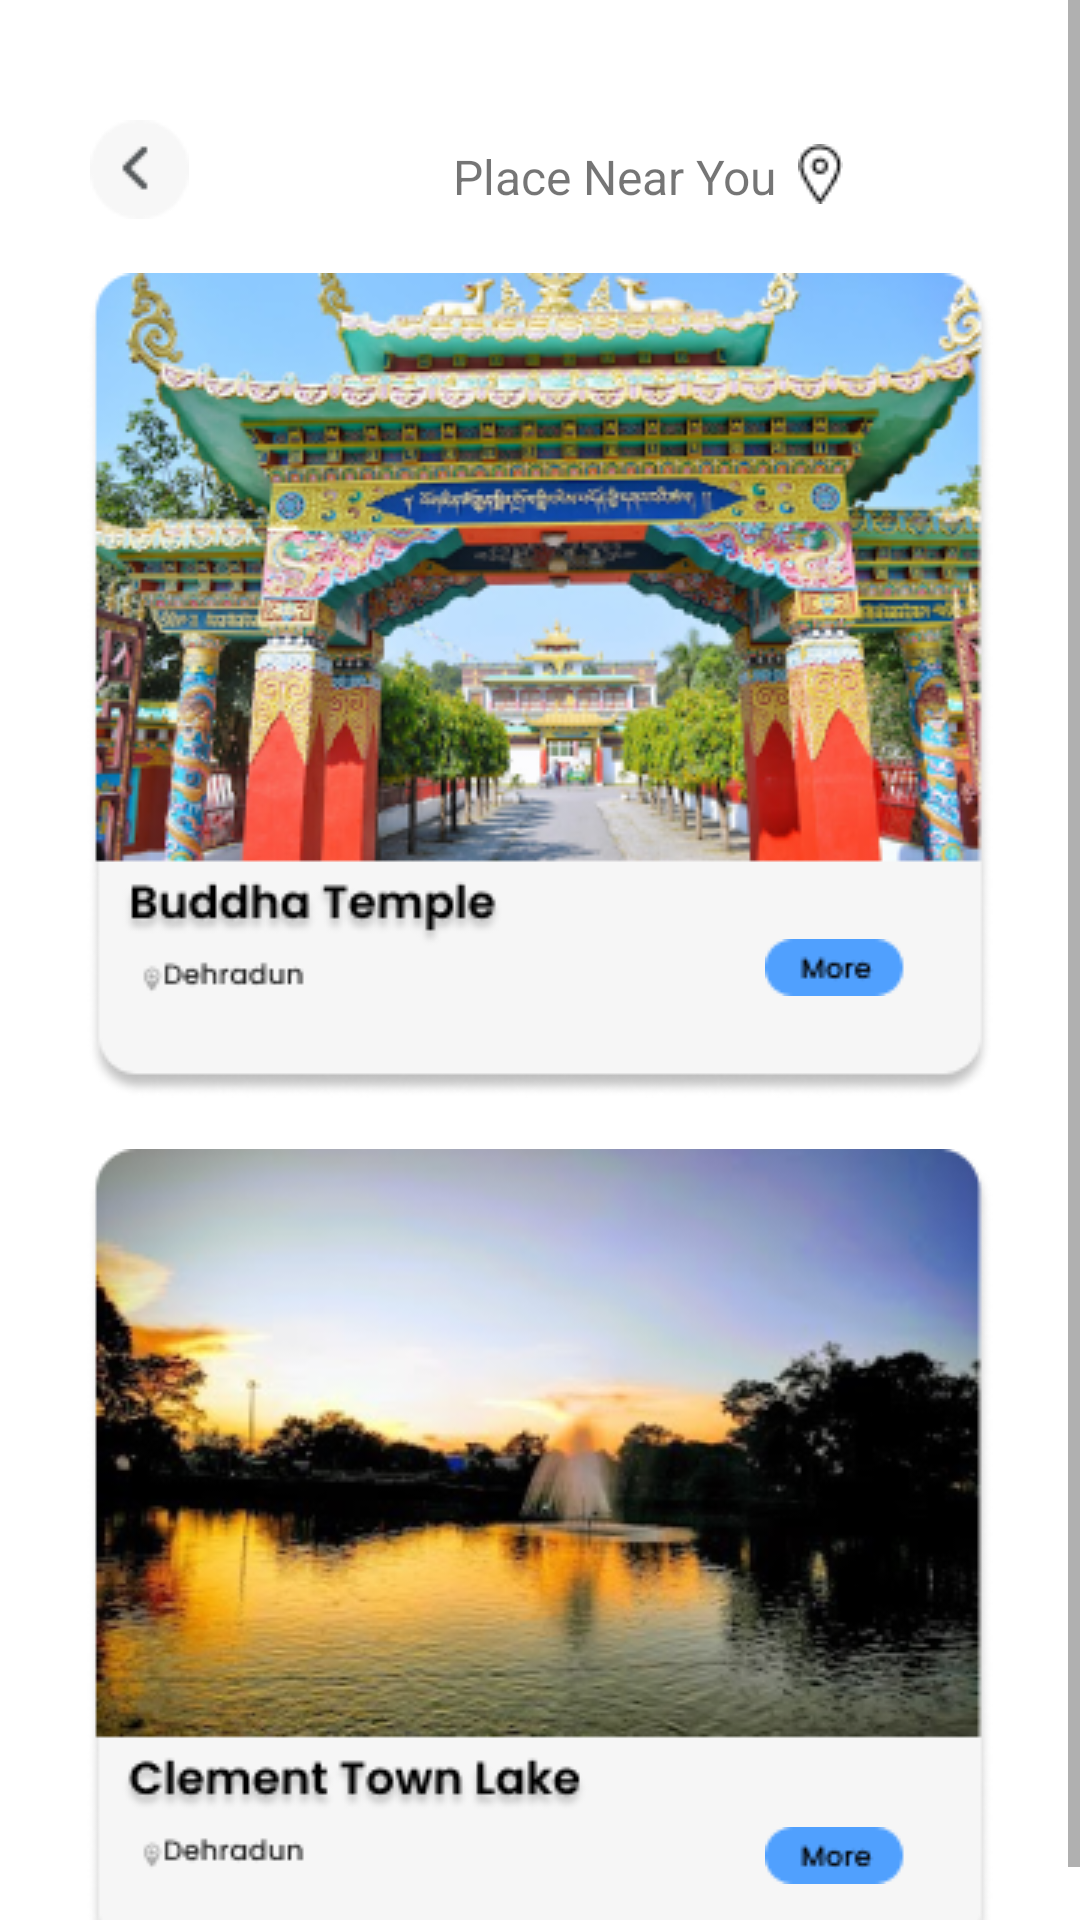

Screen size 1080 × 1920. Icon name, then its center in pixels as [x,y]:
backbtn: [135,168]
